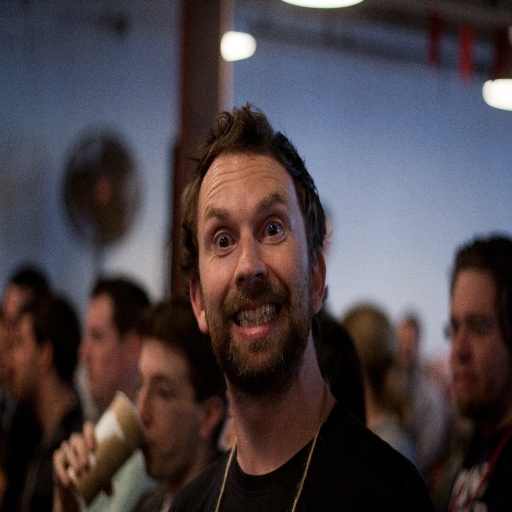hand: (53, 417, 115, 511)
